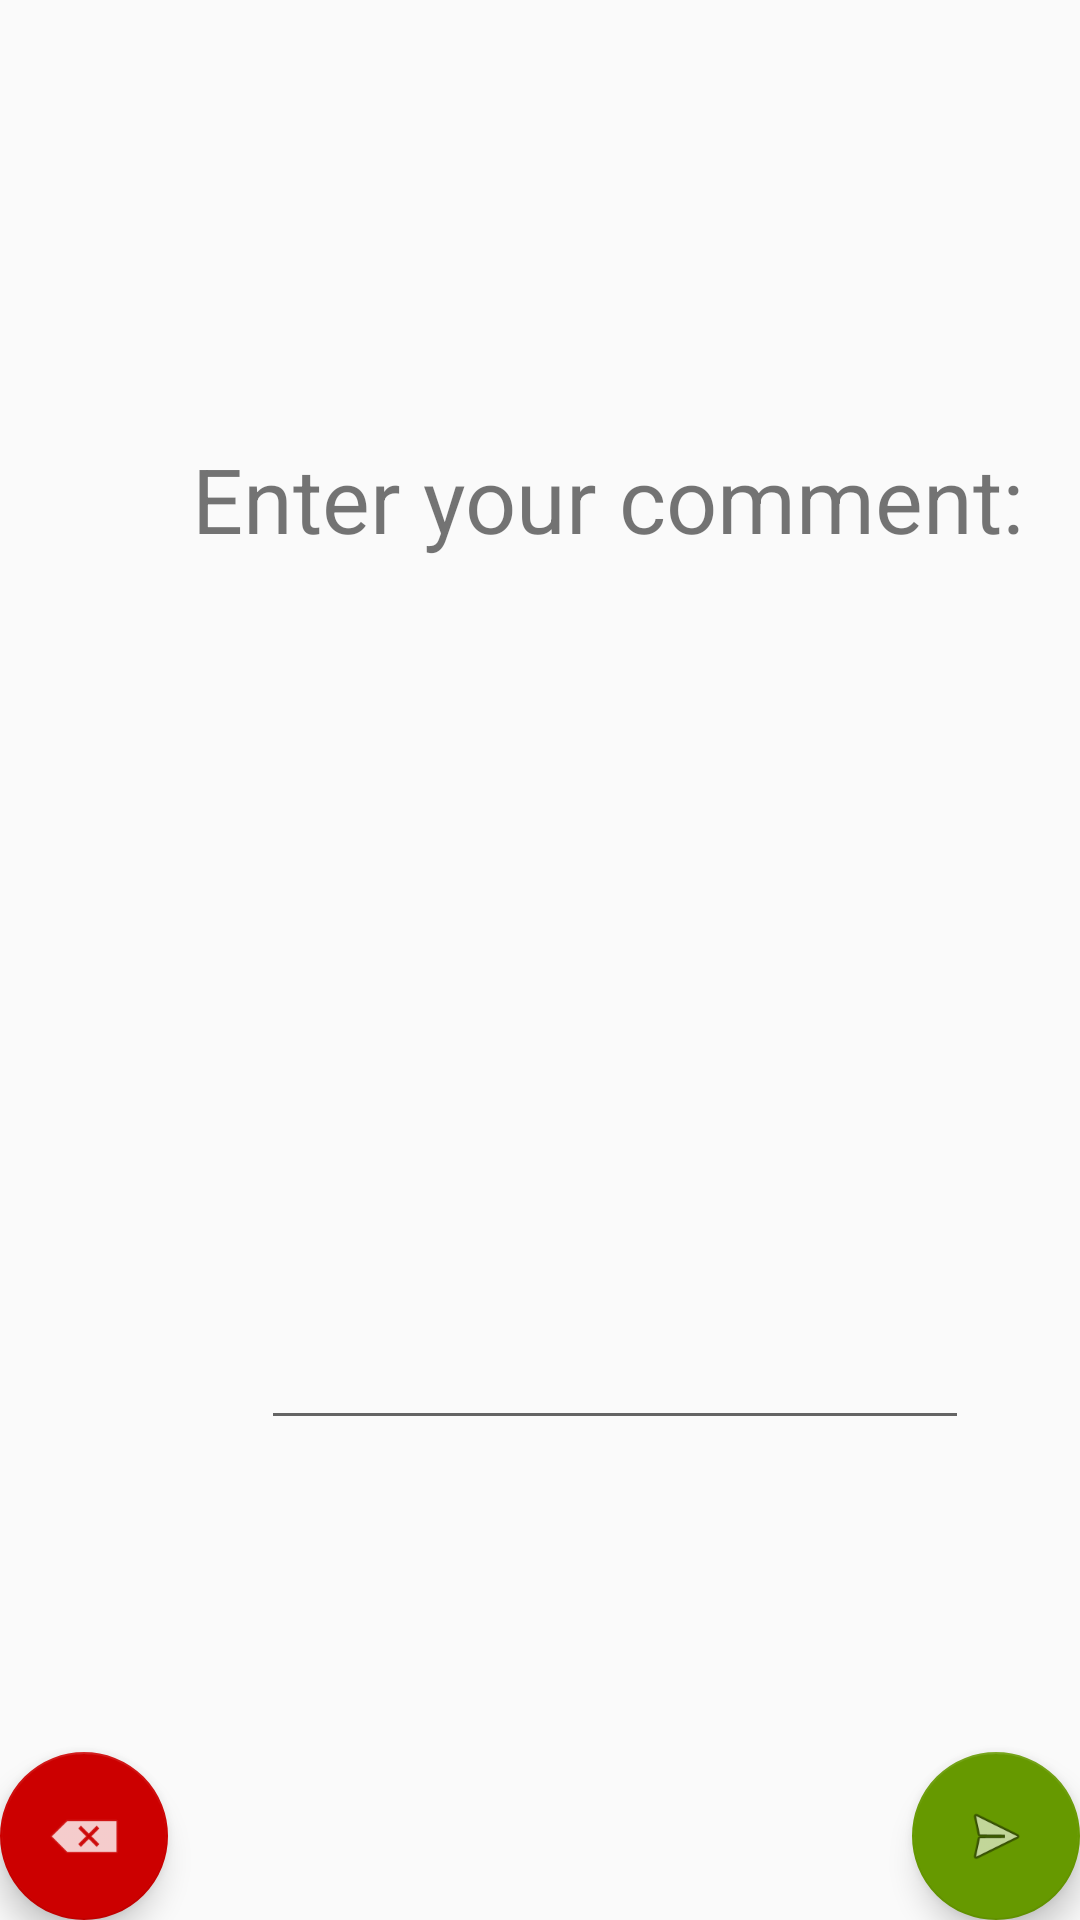

Named icons in this screenshot (1080×1920) and their centers, (x,y):
delete: (84,1836)
send: (996,1836)
